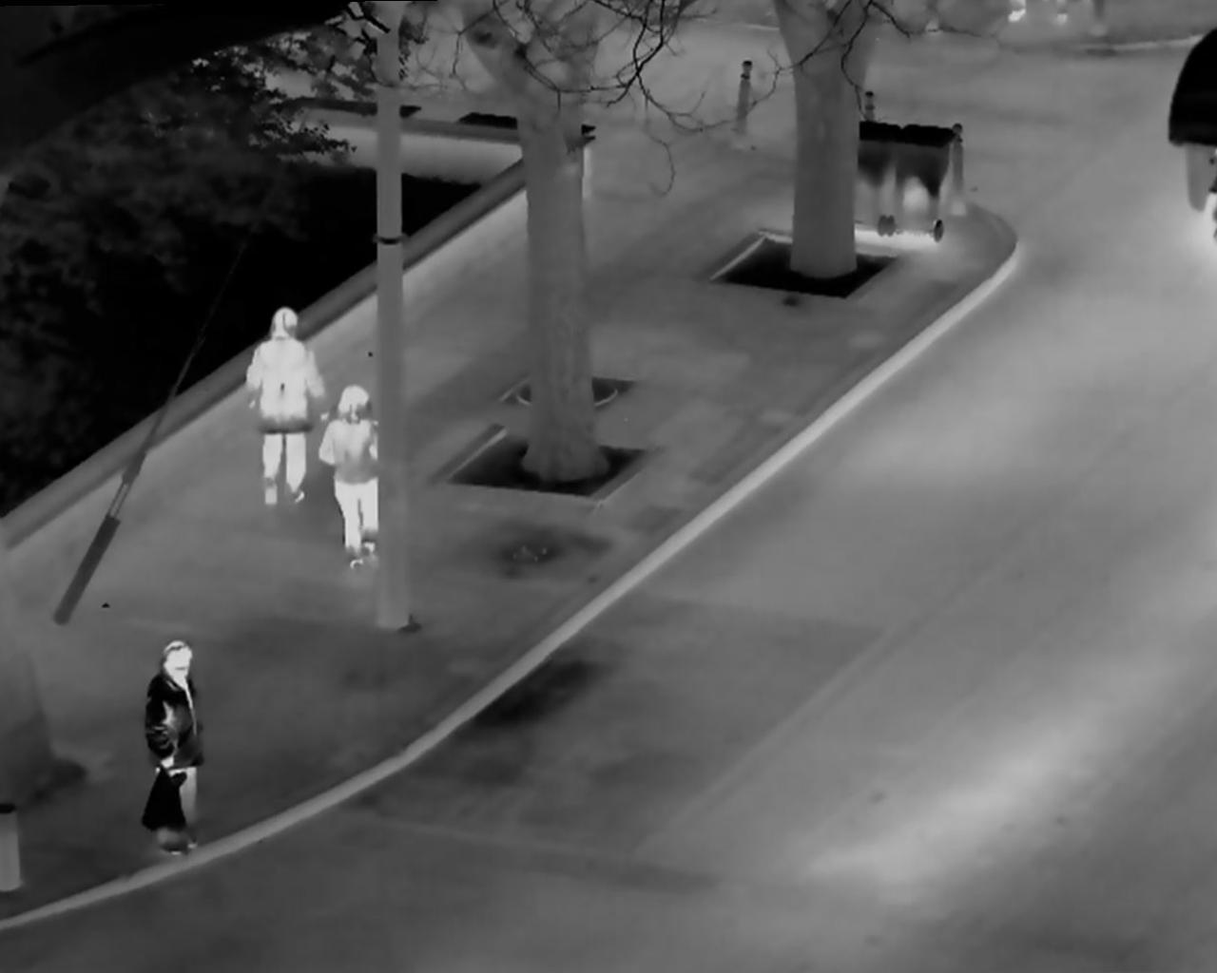person: (126, 630, 215, 868), (235, 287, 322, 516), (319, 378, 402, 572)
